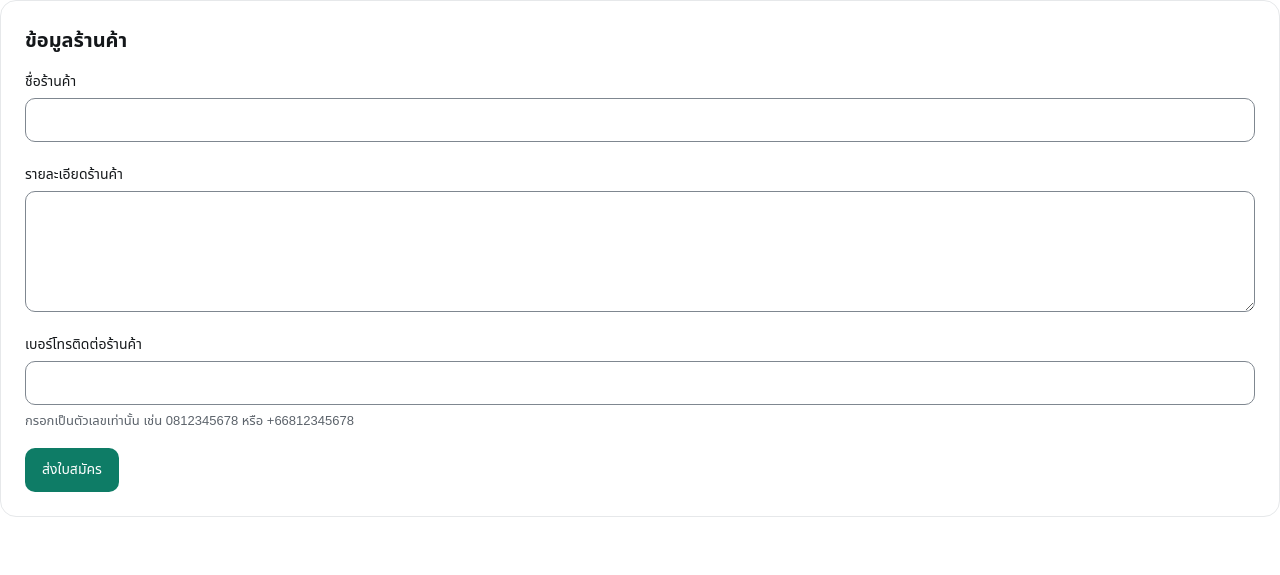
ApplicationForm › shows Thai messages under empty fields and sends nothing
Click the button "ส่งใบสมัคร".
click(72, 470)  # box x1=25 y1=448 x2=119 y2=492
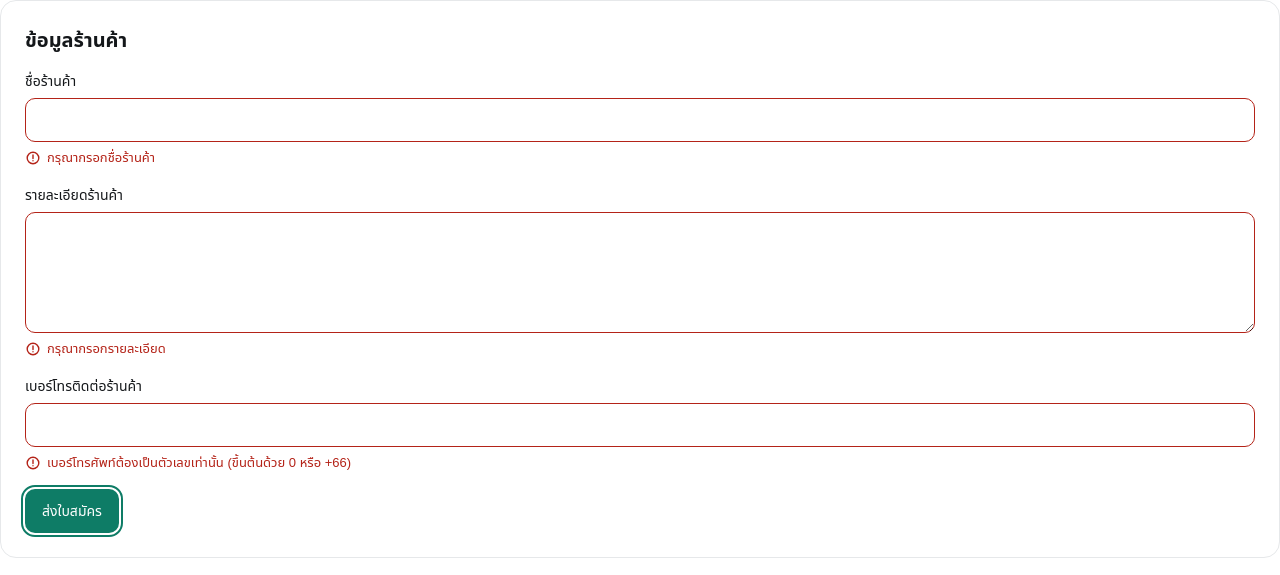
Check: the text "กรุณากรอกชื่อร้านค้า" is shown, box x1=47 y1=148 x2=155 y2=169
Check: the text "กรุณากรอกรายละเอียด" is shown, box x1=47 y1=339 x2=166 y2=360
